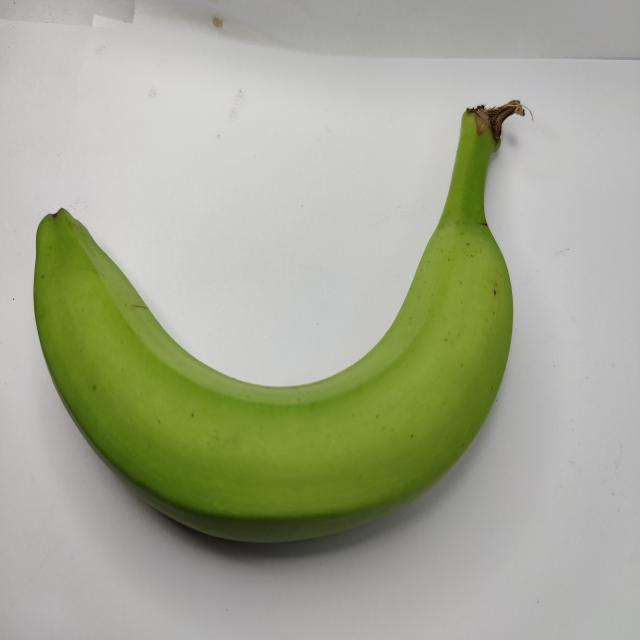raw: (21, 78, 534, 562)
